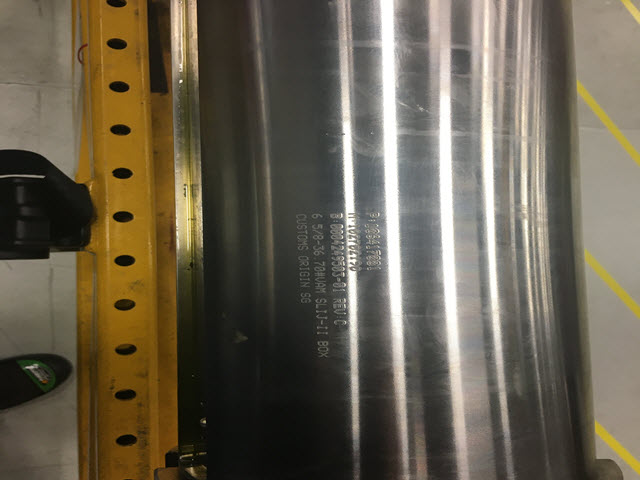character: (315, 317, 332, 326), (313, 312, 331, 320), (314, 329, 332, 337), (311, 210, 325, 220), (313, 323, 333, 330), (315, 350, 332, 358), (313, 285, 329, 293), (314, 302, 330, 310), (312, 249, 327, 257), (314, 296, 329, 304), (316, 344, 331, 352), (311, 222, 325, 230), (311, 238, 327, 245), (312, 243, 326, 251), (314, 307, 330, 314), (316, 339, 332, 346), (311, 233, 326, 240), (312, 259, 327, 266), (314, 269, 327, 277), (312, 228, 325, 235), (313, 265, 328, 271), (313, 282, 328, 288), (314, 277, 328, 283)
